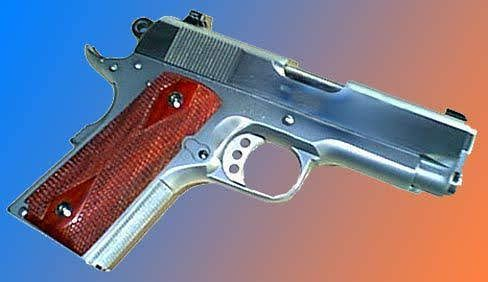gun: (13, 6, 463, 260)
